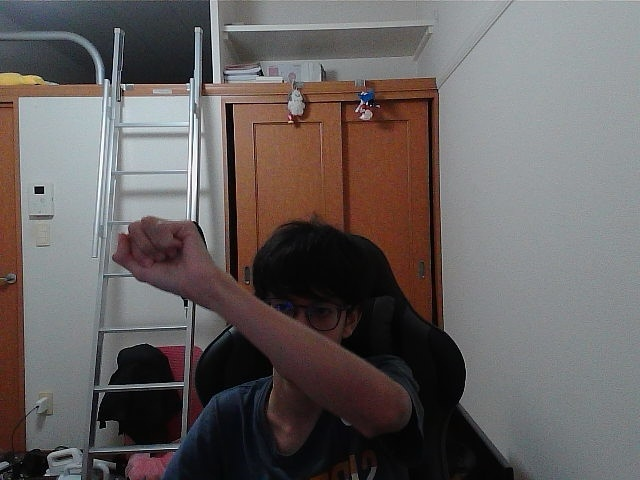closed_palm: (122, 223, 195, 284)
